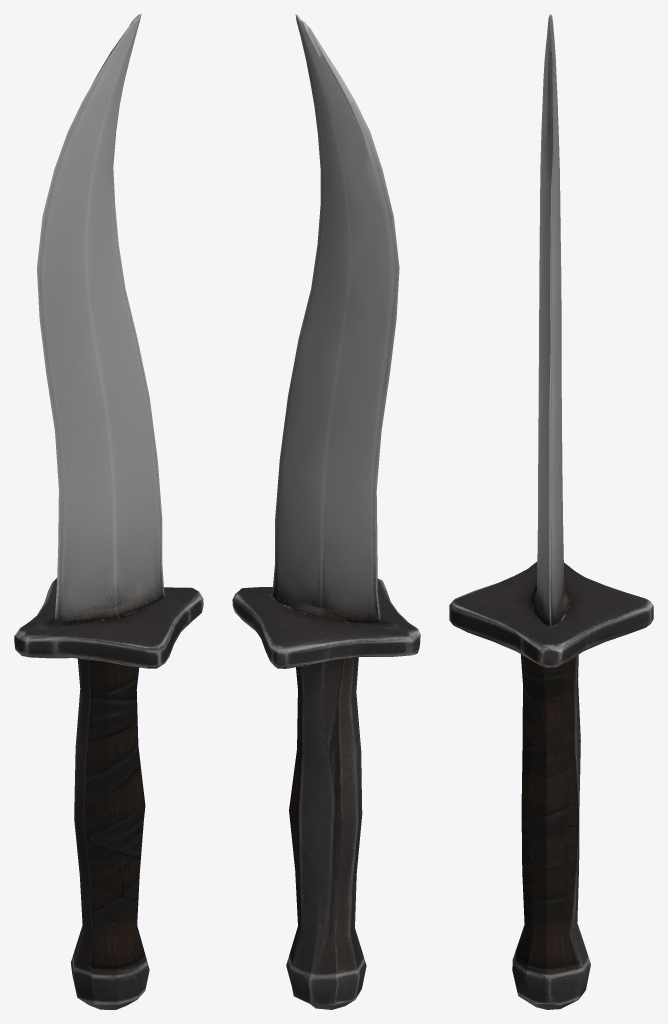
The model's file is dagger-curved.glb.
3 views of the same model, side by side, from view 1: azimuth 30°, elevation 25°; view 2: azimuth 150°, elevation 25°; view 3: azimuth 270°, elevation 25° (orthographic). The views are drawn at different scales.
Bounding box in the file's own units: 0.3643 × 1.89 × 0.3479.
1 material, 1 textured.
